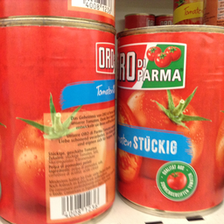tomato_sauce: (1, 17, 118, 223), (117, 24, 224, 218)
